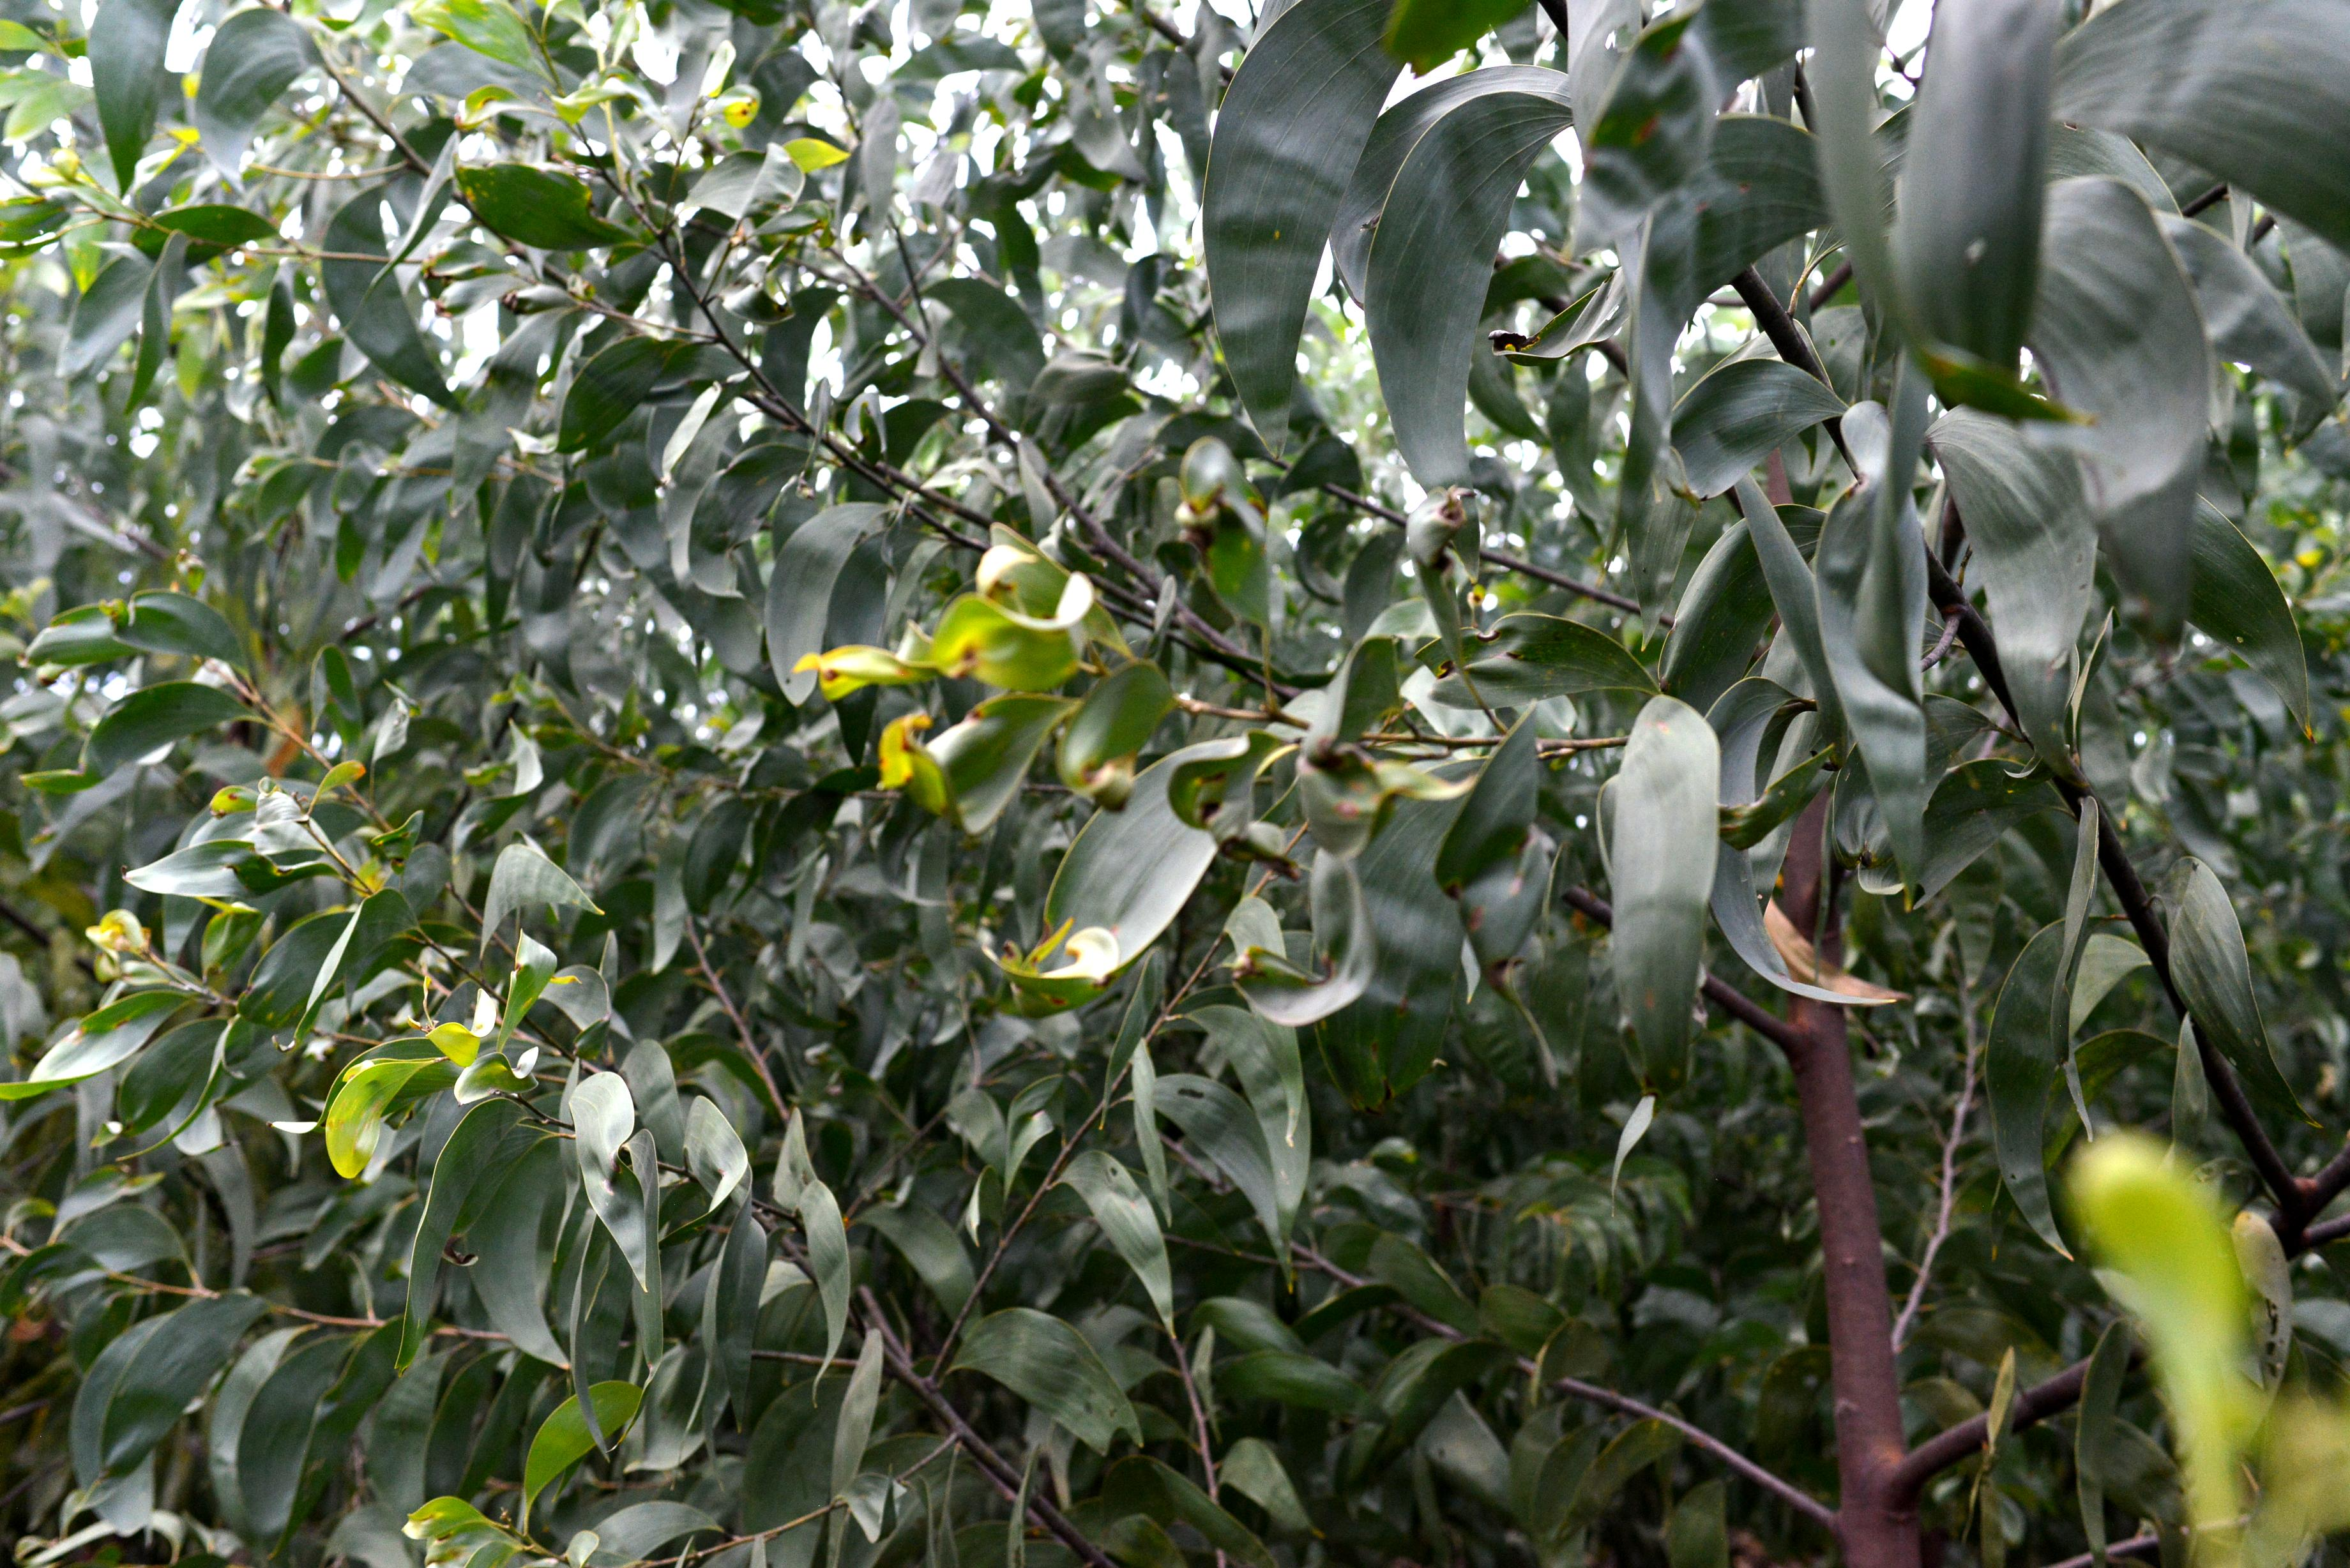Pasalora: (1715, 479, 1939, 898), (1556, 0, 1839, 304), (1608, 698, 1729, 1206), (786, 530, 1108, 703), (1435, 724, 1570, 1102), (1288, 719, 1475, 864), (873, 717, 1062, 859), (1652, 348, 1850, 481), (1234, 843, 1375, 1029), (565, 1080, 674, 1281), (1167, 721, 1297, 870), (1066, 660, 1179, 815), (107, 584, 264, 695), (313, 1053, 448, 1179), (1710, 731, 1848, 854), (978, 903, 1127, 1015), (117, 836, 339, 910), (1498, 262, 1631, 376), (206, 761, 366, 828), (1181, 441, 1279, 535), (1407, 472, 1491, 581), (409, 976, 499, 1071), (726, 224, 805, 325), (558, 72, 679, 136), (499, 929, 560, 1055), (68, 906, 154, 987), (457, 80, 565, 122), (418, 1522, 516, 1568), (455, 1052, 539, 1104), (378, 807, 425, 873), (402, 1498, 483, 1536)
